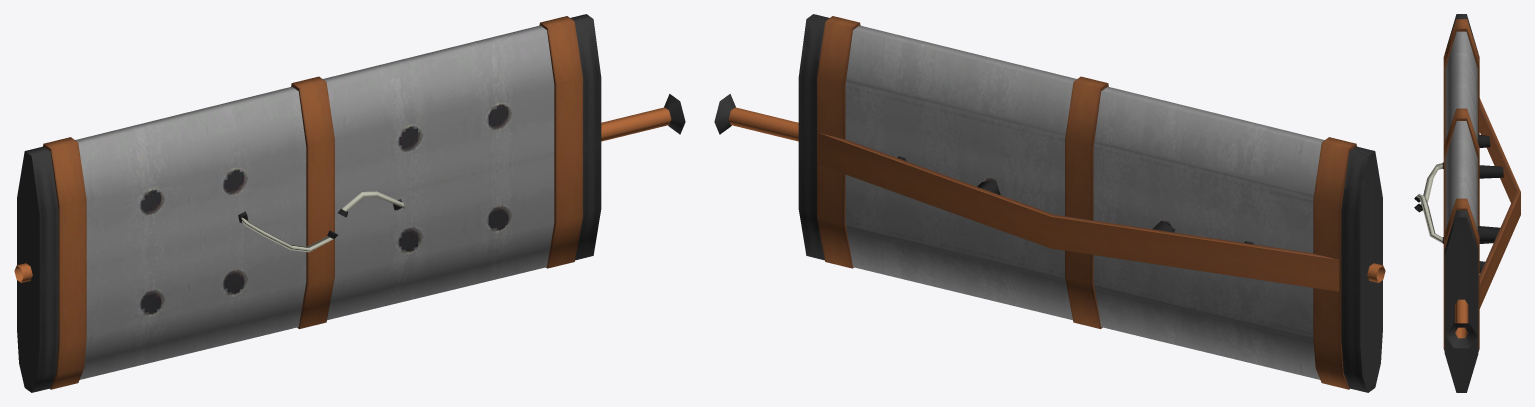
Rendered from nt_hydro_shelf_holders_LOD1.obj.
The picture shows the model from 3 angles, left to right: view 1: azimuth 30°, elevation 25°; view 2: azimuth 150°, elevation 25°; view 3: azimuth 270°, elevation 25°; orthographic projection. The views are drawn at different scales.
Parts seen in each view (by area): view 1: nt_2020_pipes_ceramic_holes, mtl_nt_hydro_cabbage_holders; view 2: nt_2020_pipes_ceramic_holes, mtl_nt_hydro_cabbage_holders; view 3: nt_2020_pipes_ceramic_holes, mtl_nt_hydro_cabbage_holders.
Boxes of the visible parts, left/top/right/bottom form: nt_2020_pipes_ceramic_holes: left=14, top=14, right=685, bottom=392; mtl_nt_hydro_cabbage_holders: left=43, top=16, right=582, bottom=389; nt_2020_pipes_ceramic_holes: left=714, top=14, right=1385, bottom=392; mtl_nt_hydro_cabbage_holders: left=817, top=16, right=1356, bottom=389; nt_2020_pipes_ceramic_holes: left=1444, top=14, right=1478, bottom=392; mtl_nt_hydro_cabbage_holders: left=1414, top=19, right=1520, bottom=351.
Bounding box in the file's own units: 106 × 37.04 × 20.08.
